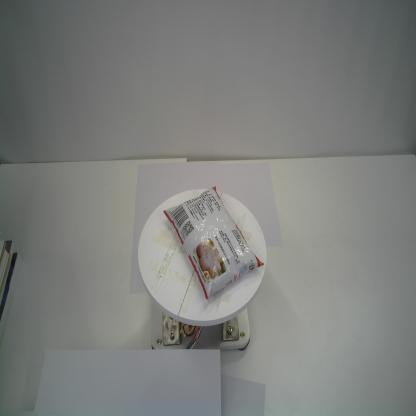Seasoner: (163, 185, 264, 300)
